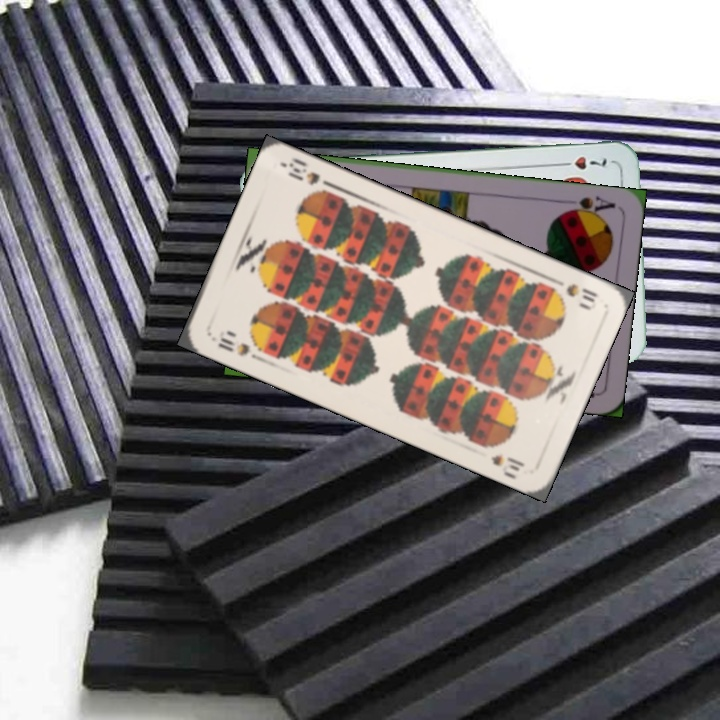H7: (554, 152, 610, 173)
S10: (546, 274, 601, 312), (213, 333, 253, 359)
SA: (558, 192, 618, 220)
